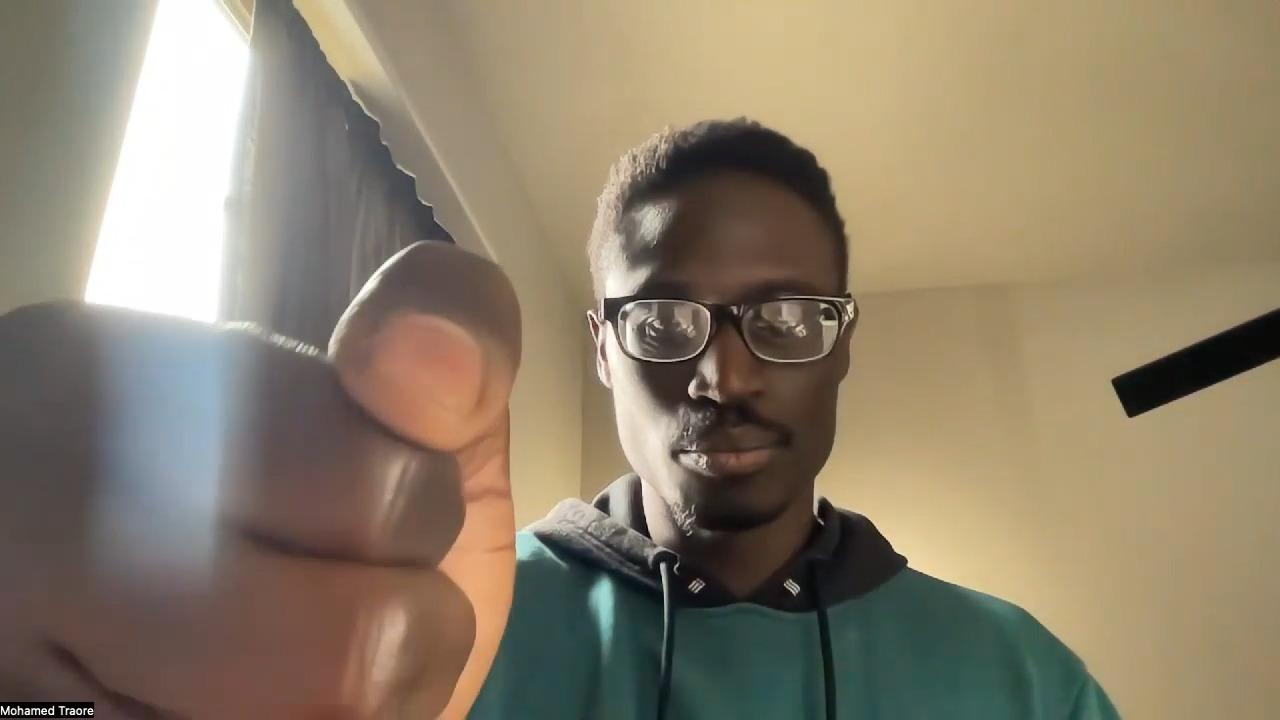Rock: (0, 237, 524, 720)
